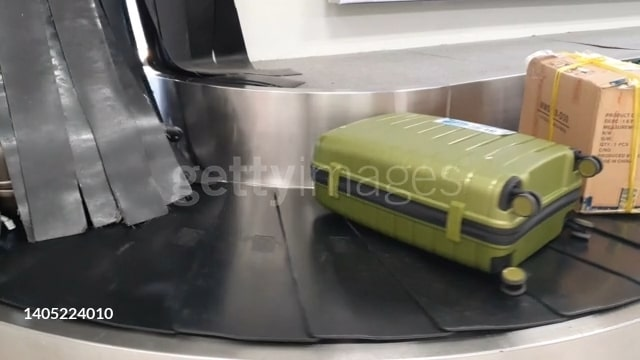baggage: (297, 107, 598, 296), (521, 54, 640, 225)
